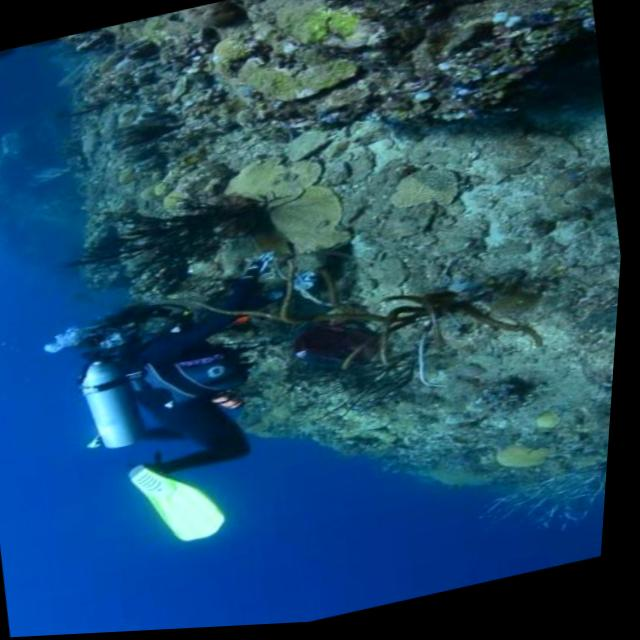Dead Coral: (55, 0, 582, 282)
